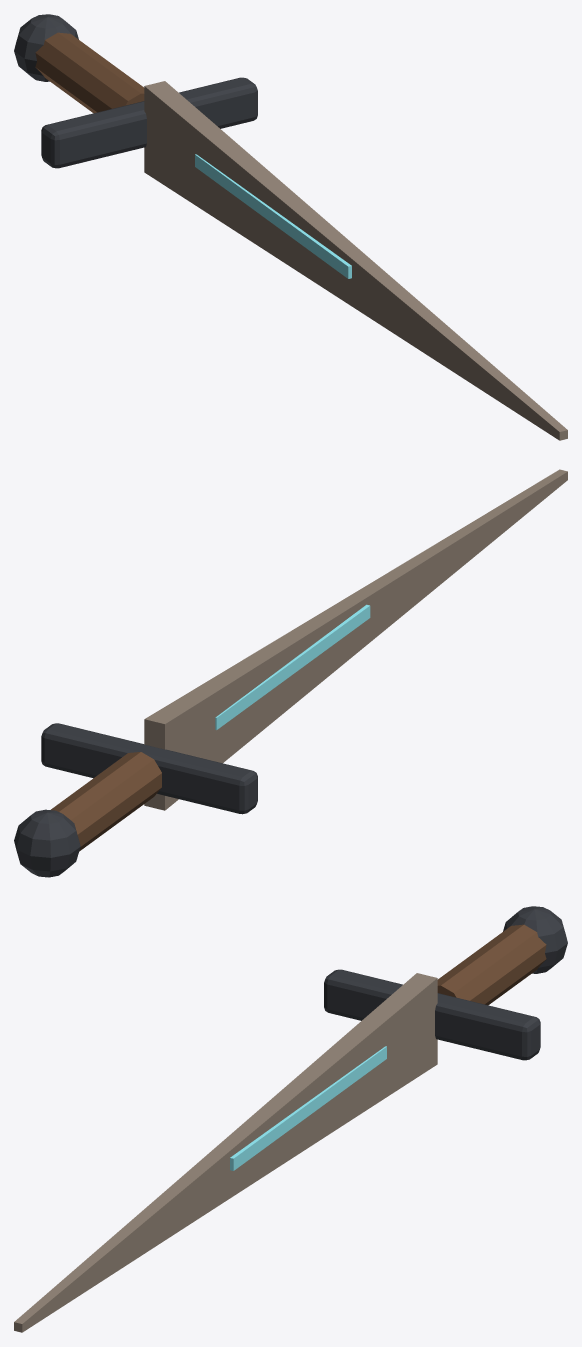
The model's file is Epee_Rouillee.fbx.
The picture shows the model from 3 angles, top to bottom: view 1: azimuth 30°, elevation 25°; view 2: azimuth 150°, elevation 25°; view 3: azimuth 330°, elevation 25°; orthographic projection.
Parts seen in each view (by area): view 1: Epee_Rouillee_Fer, Epee_Rouillee_Metal, Epee_Rouillee_Cuir, Epee_Rouillee_Noyau; view 2: Epee_Rouillee_Fer, Epee_Rouillee_Metal, Epee_Rouillee_Cuir, Epee_Rouillee_Noyau; view 3: Epee_Rouillee_Fer, Epee_Rouillee_Metal, Epee_Rouillee_Cuir, Epee_Rouillee_Noyau.
Boxes of the visible parts, x1=… form: Epee_Rouillee_Fer: x1=144, y1=81, x2=567, y2=440; Epee_Rouillee_Metal: x1=14, y1=14, x2=257, y2=168; Epee_Rouillee_Cuir: x1=35, y1=32, x2=144, y2=113; Epee_Rouillee_Noyau: x1=195, y1=154, x2=351, y2=278; Epee_Rouillee_Fer: x1=144, y1=469, x2=567, y2=810; Epee_Rouillee_Metal: x1=14, y1=723, x2=257, y2=877; Epee_Rouillee_Cuir: x1=51, y1=752, x2=161, y2=851; Epee_Rouillee_Noyau: x1=215, y1=604, x2=370, y2=729; Epee_Rouillee_Fer: x1=14, y1=973, x2=437, y2=1332; Epee_Rouillee_Metal: x1=324, y1=906, x2=567, y2=1060; Epee_Rouillee_Cuir: x1=437, y1=924, x2=546, y2=1005; Epee_Rouillee_Noyau: x1=230, y1=1046, x2=386, y2=1170.
Size of the model in its own units: 70 by 28 by 313.
